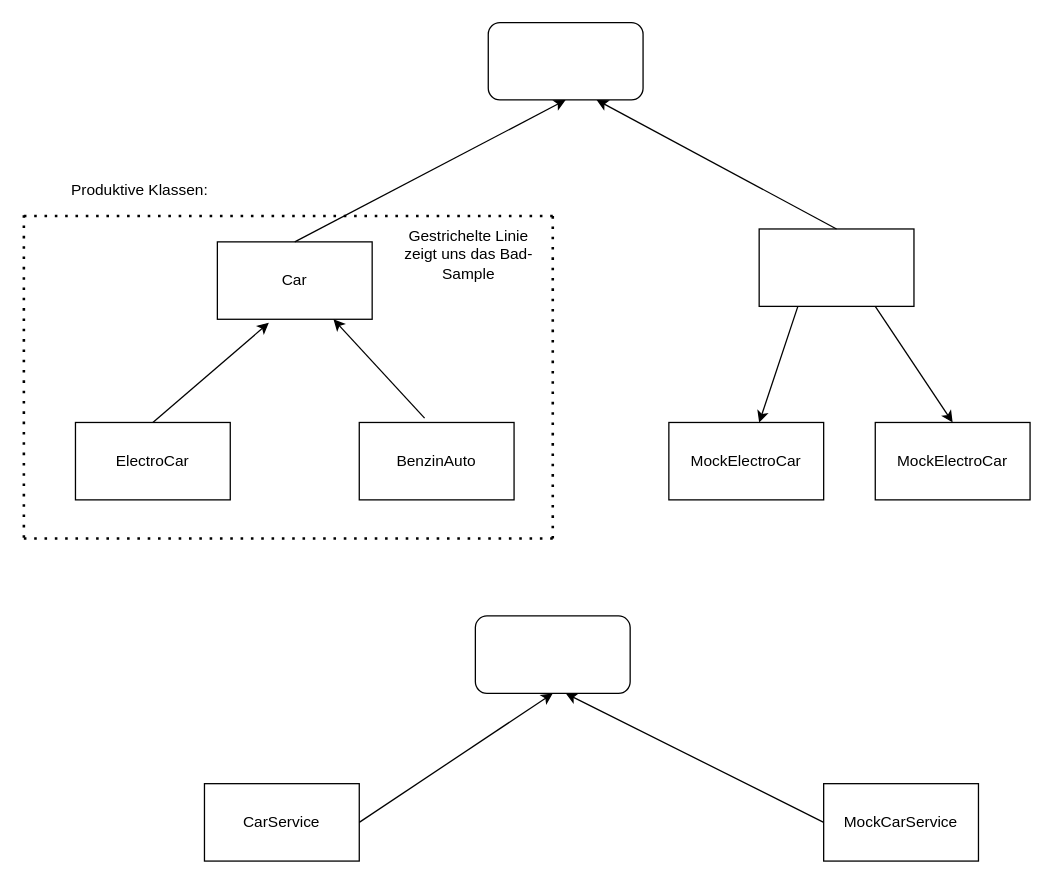
This 1053x884 diagram has some shape labels left out. Each missing label, with the centre of its shape:
"ICar" belongs at (x=565, y=60).
"ICarService void Repair(ICar car)" belongs at (x=552, y=654).
"MockCar" belongs at (x=836, y=267).
